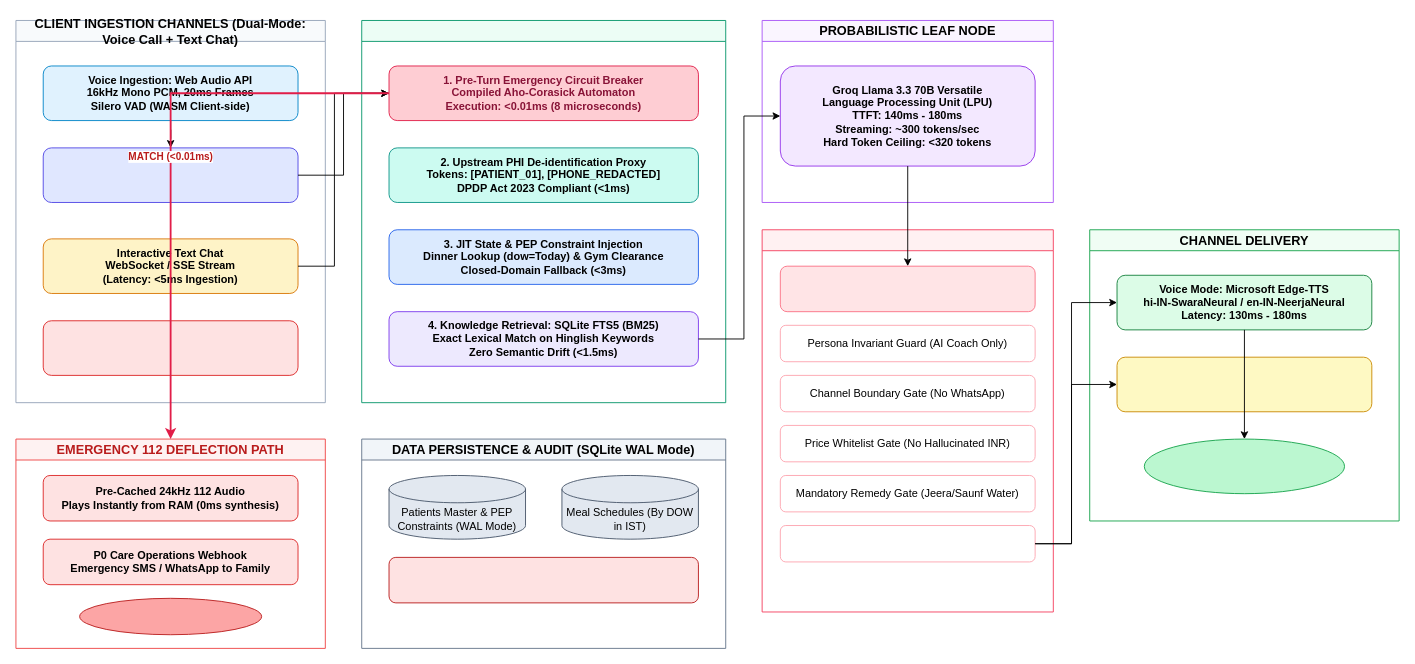
This 1415x664 diagram has some shape labels left out. The shapes that lost their labels are listed below. From the top down, each one's box as (x1, y1, x2, y2) in pixels, then its label:
(42, 147, 298, 202): Fast Streaming ASR Groq Whisper Large v3 Turbo (Latency: 120ms - 140ms)
(361, 20, 726, 403): THICK DETERMINISTIC PRE-SPINE (FastAPI Gateway - Latency <15ms)
(779, 265, 1035, 312): Atomic Sentence Buffer Barrier Buffers tokens to [.?!।] boundary (prevents race)
(42, 320, 298, 375): Client-Side Barge-In Engine <40ms AudioContext Interruption
(1116, 356, 1372, 412): Chat Mode: WebSocket / SSE Text Markdown, Macros, Remedy Badges Latency: <10ms
(761, 229, 1053, 612): POST-TURN SANITIZER (The Gate - Latency <2ms)
(1143, 438, 1345, 494): WebRTC Speaker / Telephony Ear
(779, 525, 1035, 562): EgressGate Credential & PHI Redactor
(388, 556, 698, 603): Merkle Hash-Chained Audit Ledger (SHA-256 Chain)
(79, 597, 262, 635): Graceful Telephony Call Hangup (5s)
